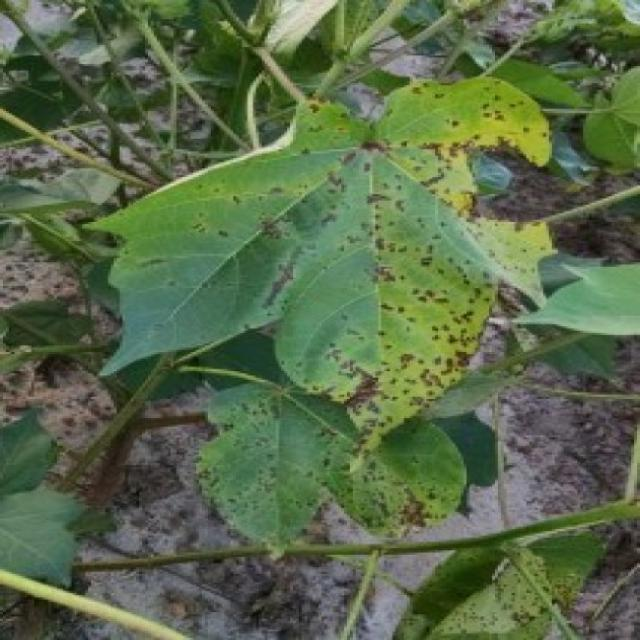Bacterial Blight: (274, 129, 514, 405)
